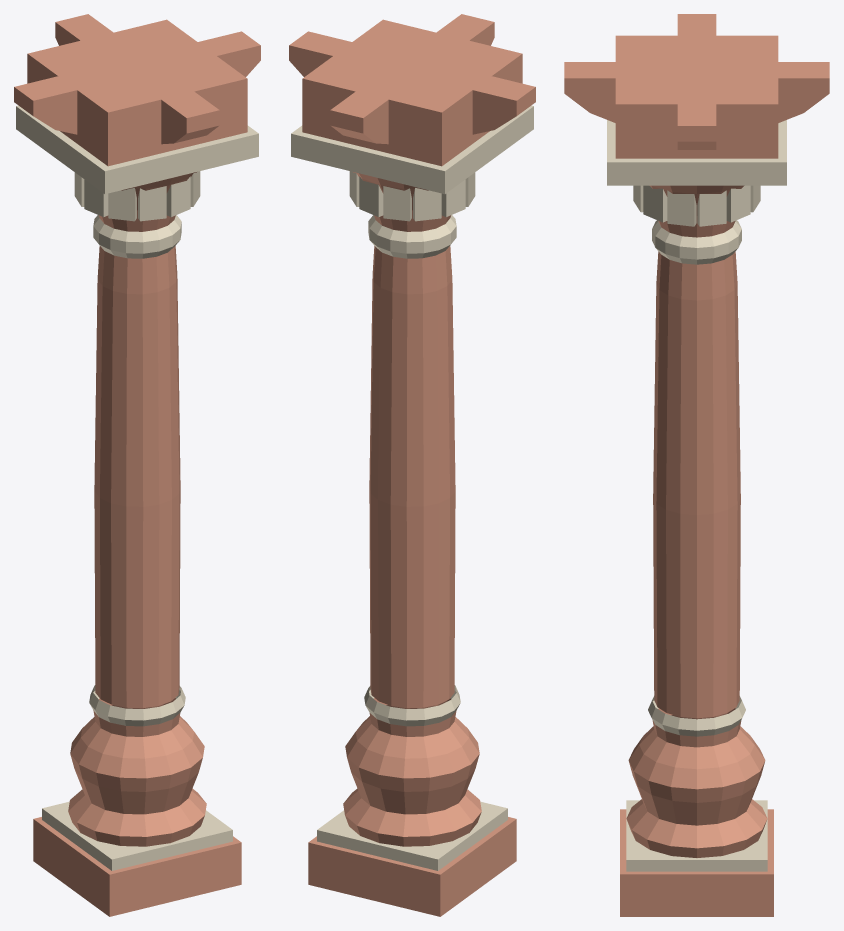
File: kit_column2.glb
3 views of the same model, side by side, from view 1: azimuth 30°, elevation 25°; view 2: azimuth 150°, elevation 25°; view 3: azimuth 270°, elevation 25° (orthographic).
Visible parts, largest first — view 1: kit_column2; view 2: kit_column2; view 3: kit_column2.
Part boxes in pixels (x1=…): kit_column2: x1=14, y1=14, x2=260, y2=916; kit_column2: x1=289, y1=14, x2=535, y2=916; kit_column2: x1=564, y1=14, x2=829, y2=916.
Bounding box in the file's own units: 1.24 × 4.2 × 1.24.
